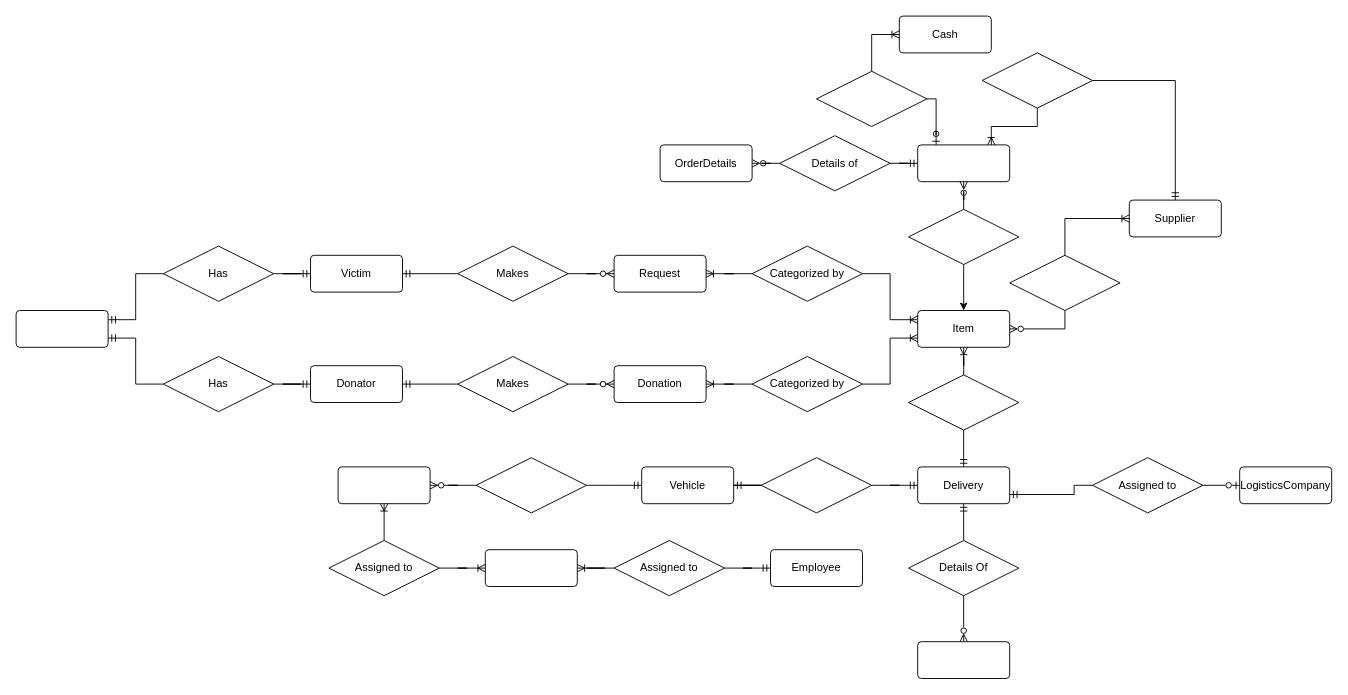
This 1348x695 diagram has some shape labels left out. The centre of each missing label's shape, as x and y in pixels:
"Account" belongs at (x=61, y=328).
"Defines status" belongs at (x=530, y=485).
"DeliveryDetails" belongs at (x=963, y=659).
"EmployeeJobs" belongs at (x=530, y=567).
"Order" belongs at (x=963, y=163).
"Order from" belongs at (x=1036, y=80).
"Ordered" belongs at (x=1064, y=282).
"Ship for" belongs at (x=963, y=402).
"Update stock" belongs at (x=963, y=236).
"Used in" belongs at (x=816, y=485).
"Uses up" belongs at (x=871, y=98).
"VehicleStatus" belongs at (x=383, y=485).
